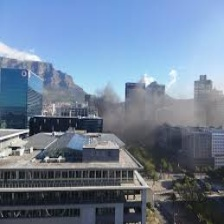smoke: (93, 94, 178, 137)
